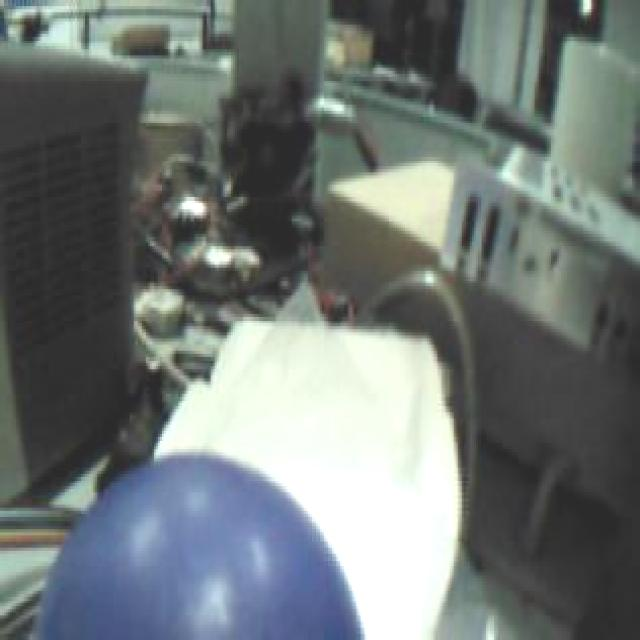BallPurple: (38, 449, 364, 640)
